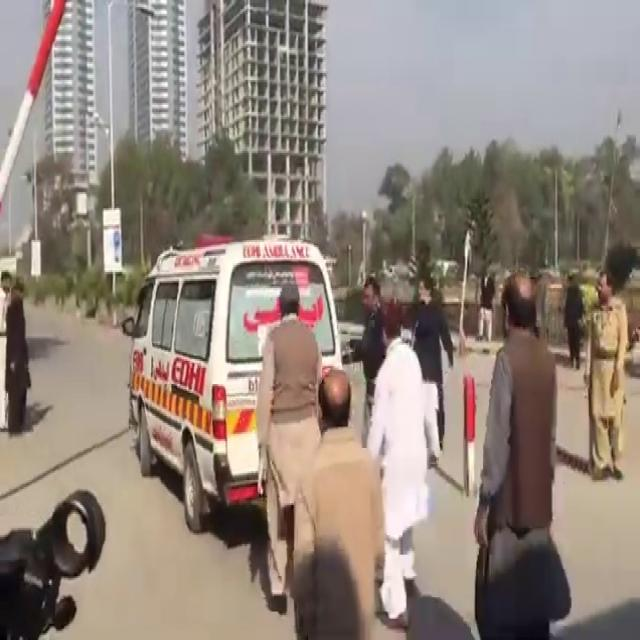ambulance: (115, 200, 373, 498)
